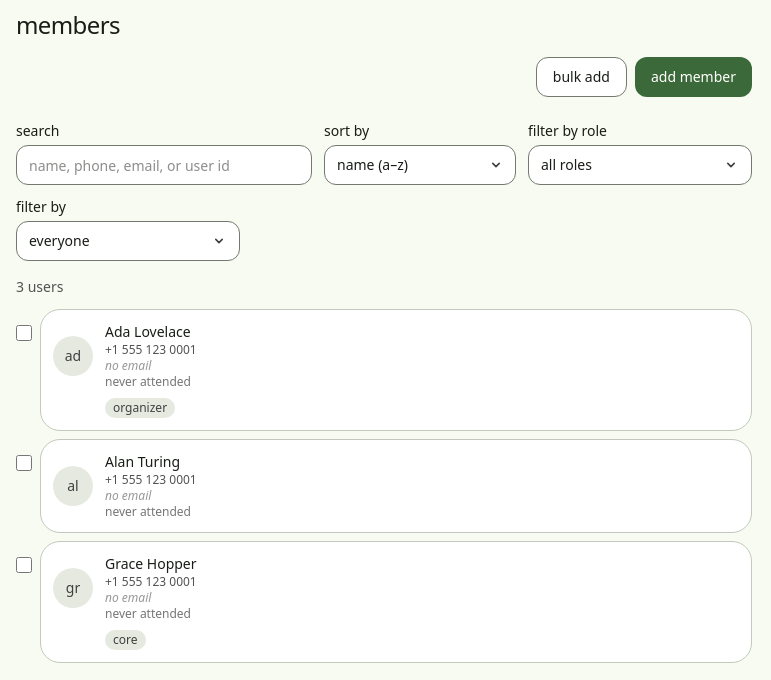
Scenario: MembersScreen › shows filtered count as "N of M" when role filter is active
// Open the role filter dropdown and select 'organizer'
Click the button "all roles" at (640, 165), box [528,145,752,185]
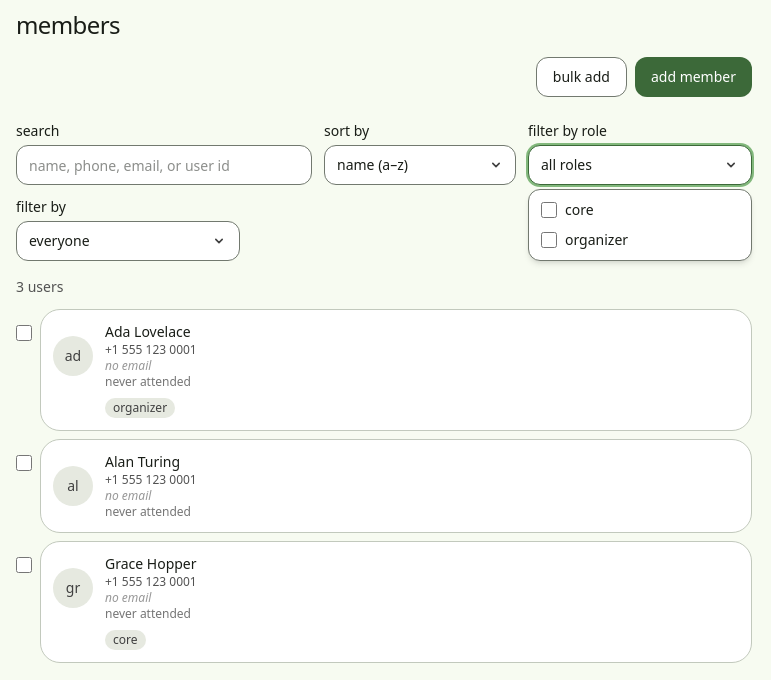
Click the checkbox labelled "organizer" at (549, 240), box [541,232,557,248]
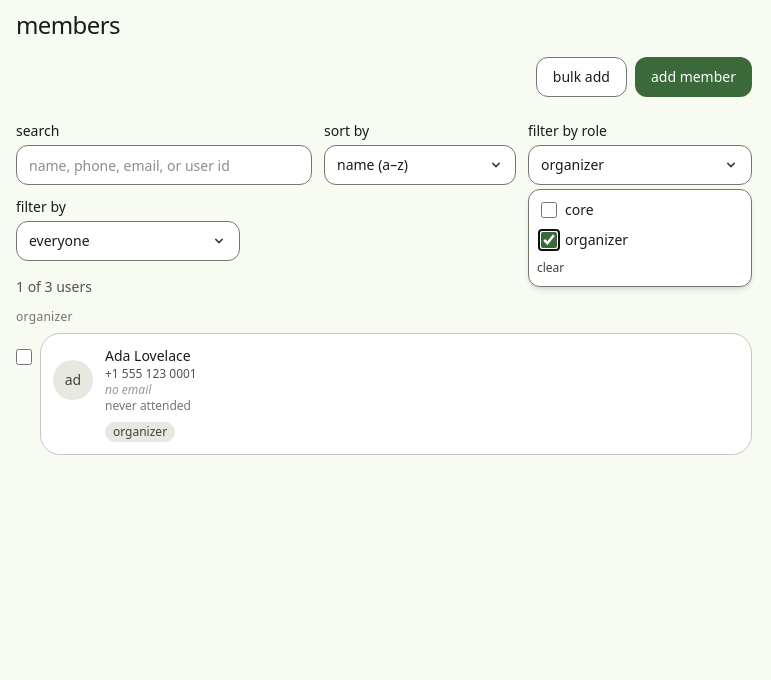
Result: the text "1 of 3 users" is shown at [16,277,92,296]
